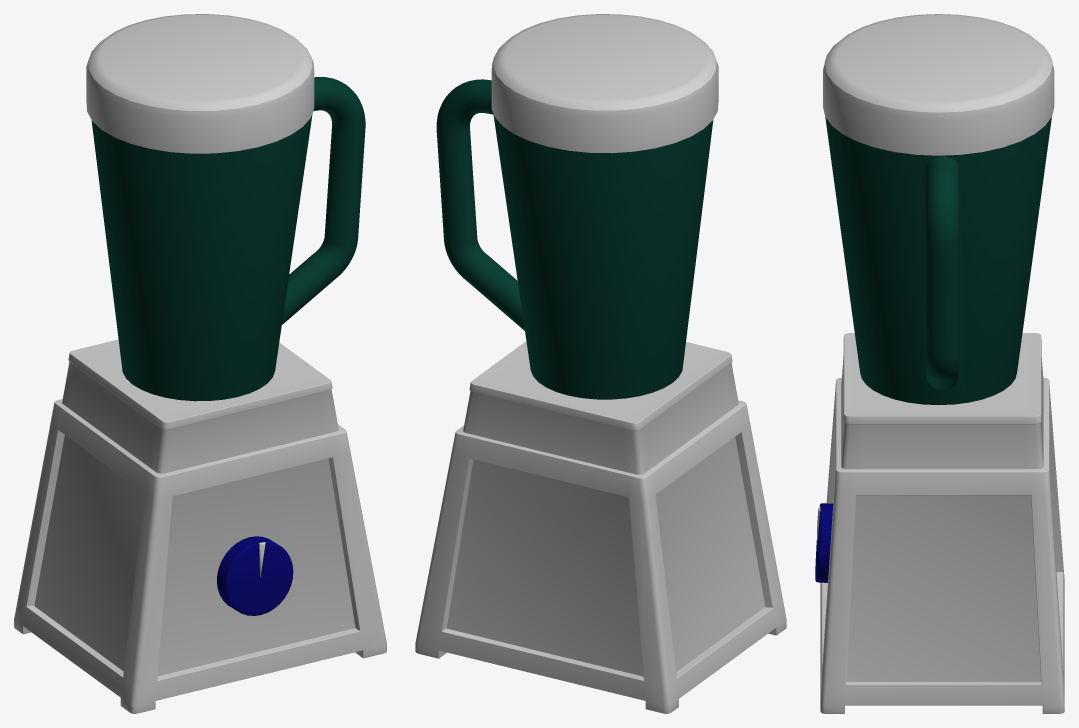
Rendered from blender.fbx.
The picture shows the model from 3 angles, left to right: view 1: azimuth 30°, elevation 25°; view 2: azimuth 150°, elevation 25°; view 3: azimuth 270°, elevation 25°; orthographic projection.
Parts seen in each view (by area): view 1: Osnovanie (×2), Cup, Krishka, Button; view 2: Osnovanie (×2), Cup, Krishka; view 3: Osnovanie (×2), Cup, Krishka, Button.
Boxes of the visible parts, box(x1,y1,x2,y2) form: Osnovanie (×2): box(14, 339, 386, 713); Cup: box(91, 77, 365, 401); Krishka: box(86, 14, 314, 153); Button: box(217, 536, 293, 615); Osnovanie (×2): box(415, 341, 786, 713); Cup: box(436, 79, 713, 399); Krishka: box(491, 14, 718, 153); Osnovanie (×2): box(820, 333, 1064, 713); Cup: box(825, 117, 1051, 404); Krishka: box(823, 14, 1054, 155); Button: box(815, 503, 833, 582).
Size of the model in its own units: 36.88 by 70.73 by 27.04.
